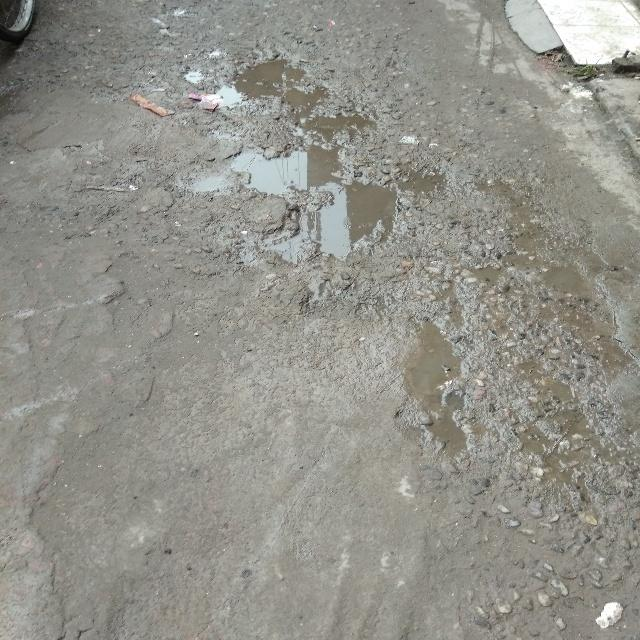Surface Erosion: (146, 0, 628, 619)
